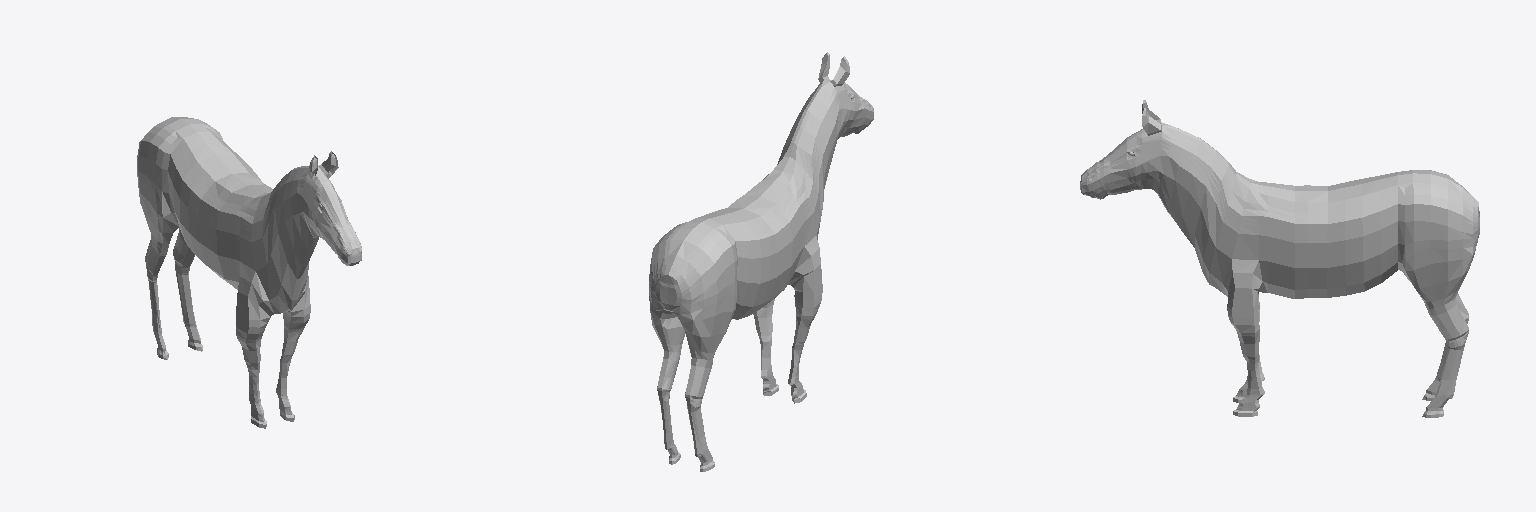
File: zebra.obj
The picture shows the model from 3 angles: view 1: azimuth 30°, elevation 25°; view 2: azimuth 150°, elevation 25°; view 3: azimuth 270°, elevation 25°; orthographic projection.
Visible parts, largest first — view 1: Plane; view 2: Plane; view 3: Plane.
Part boxes in pixels (left/top/right/bottom): Plane: left=137, top=117, right=361, bottom=428; Plane: left=649, top=52, right=873, bottom=471; Plane: left=1080, top=100, right=1479, bottom=417.
Bounding box in the file's own units: 1.83 × 7.54 × 8.98.